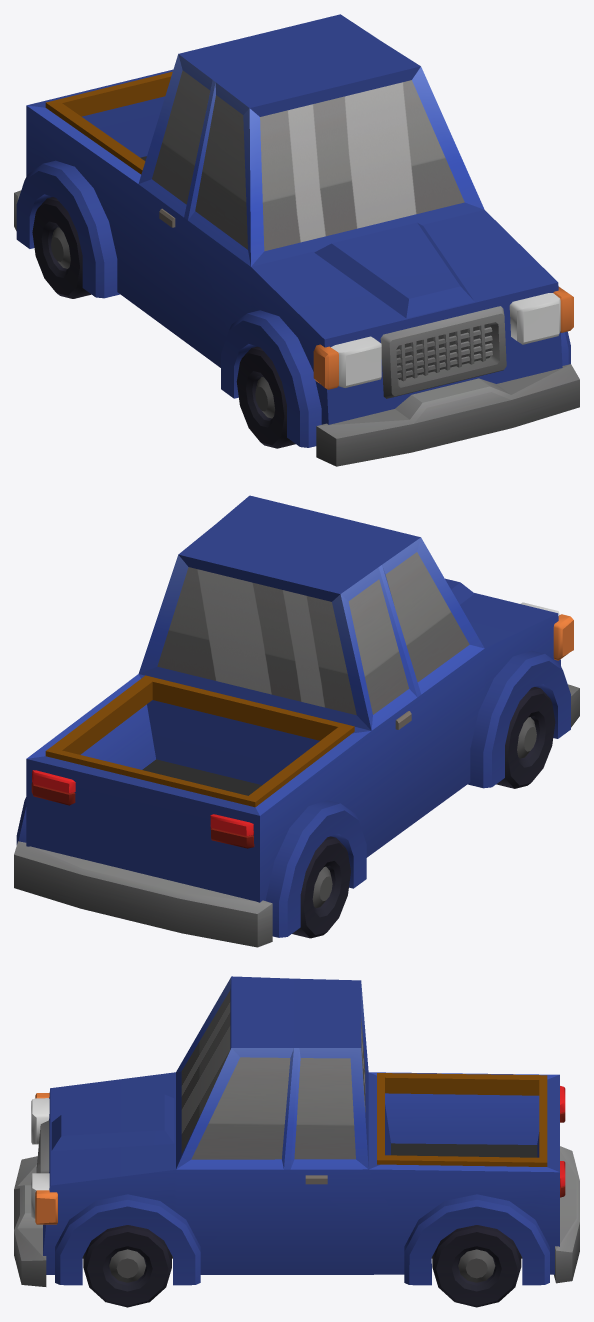
The model's file is PickUp_1.fbx.
3 renders of one model, top to bottom at view 1: azimuth 30°, elevation 25°; view 2: azimuth 150°, elevation 25°; view 3: azimuth 270°, elevation 25°, orthographic. The views are drawn at different scales.
Visible parts, largest first — view 1: PickUp_1, BWhel_BR.038, BWhel_FR.038; view 2: PickUp_1, BWhel_BR.038, BWhel_FR.038; view 3: PickUp_1, BWhel_BL.038, BWhel_FL.038.
Part boxes in pixels (x1=…): PickUp_1: x1=14, y1=14, x2=579, y2=466; BWhel_BR.038: x1=32, y1=197, x2=91, y2=298; BWhel_FR.038: x1=236, y1=346, x2=295, y2=448; PickUp_1: x1=14, y1=495, x2=579, y2=947; BWhel_BR.038: x1=292, y1=836, x2=350, y2=938; BWhel_FR.038: x1=496, y1=687, x2=555, y2=788; PickUp_1: x1=14, y1=976, x2=579, y2=1286; BWhel_BL.038: x1=432, y1=1225, x2=521, y2=1307; BWhel_FL.038: x1=83, y1=1225, x2=171, y2=1307.
Size of the model in its own units: 109 by 108 by 230.
